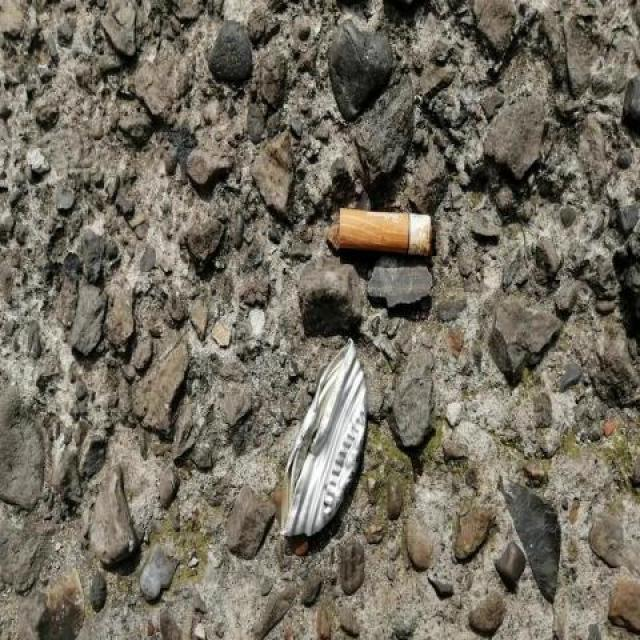non-organic waste: (332, 198, 440, 266)
